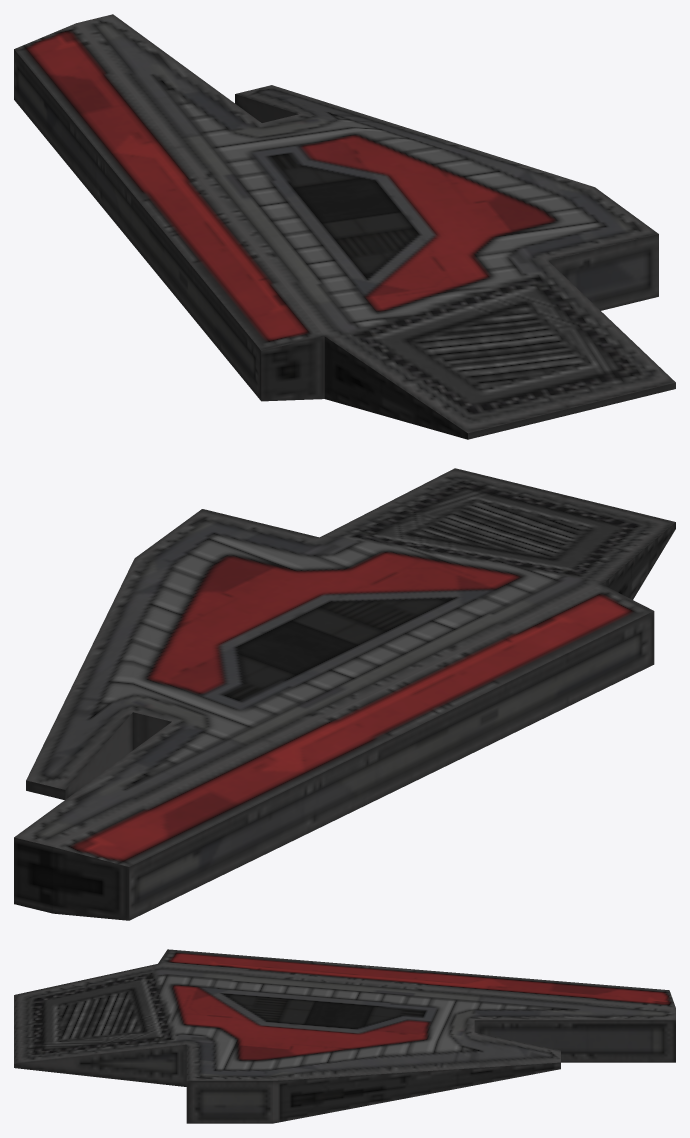
The model's file is BFP_WingBulkSection_Right.FBX.
3 views of the same model, one above another, from view 1: azimuth 30°, elevation 25°; view 2: azimuth 150°, elevation 25°; view 3: azimuth 270°, elevation 25° (orthographic). The views are drawn at different scales.
Visible parts, largest first — view 1: BFP_WingBulkSection_Right; view 2: BFP_WingBulkSection_Right; view 3: BFP_WingBulkSection_Right.
Part boxes in pixels (x1,y1,x2,y2): BFP_WingBulkSection_Right: (14,14,675,439); BFP_WingBulkSection_Right: (14,468,675,920); BFP_WingBulkSection_Right: (14,949,675,1123).
Bounding box in the file's own units: 198 × 28.88 × 408.
1 material, 1 textured.
